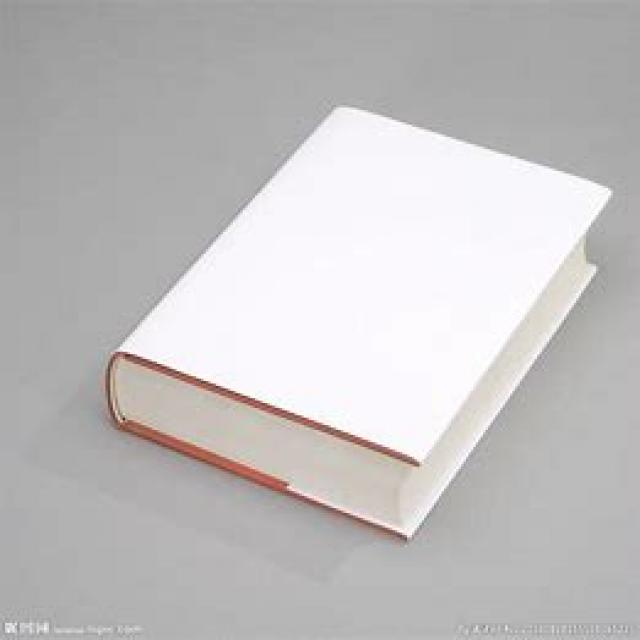pen: (49, 80, 640, 565)
